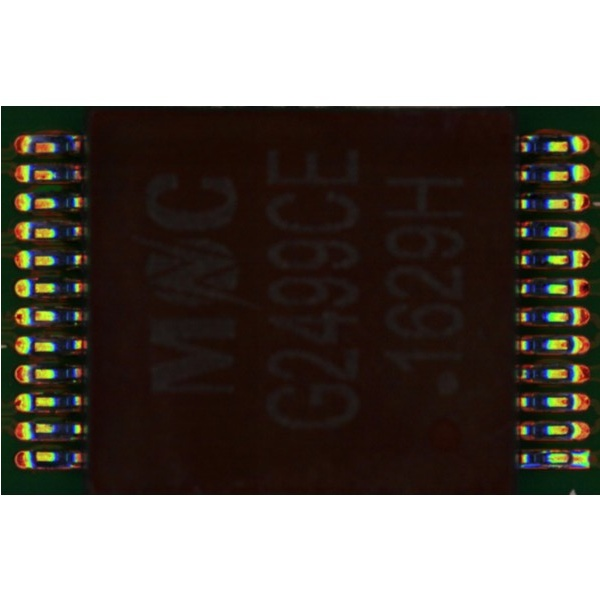Bad_podu: (564, 455, 579, 463)
Bad_qiaojiao: (528, 464, 566, 469), (535, 449, 566, 454)
